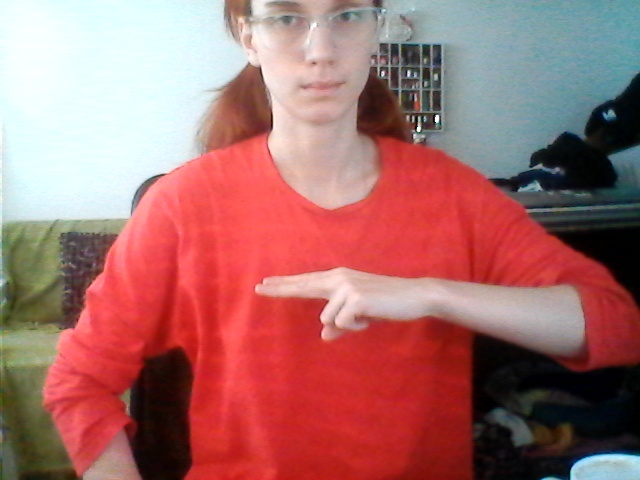frajer: (250, 264, 426, 355)
